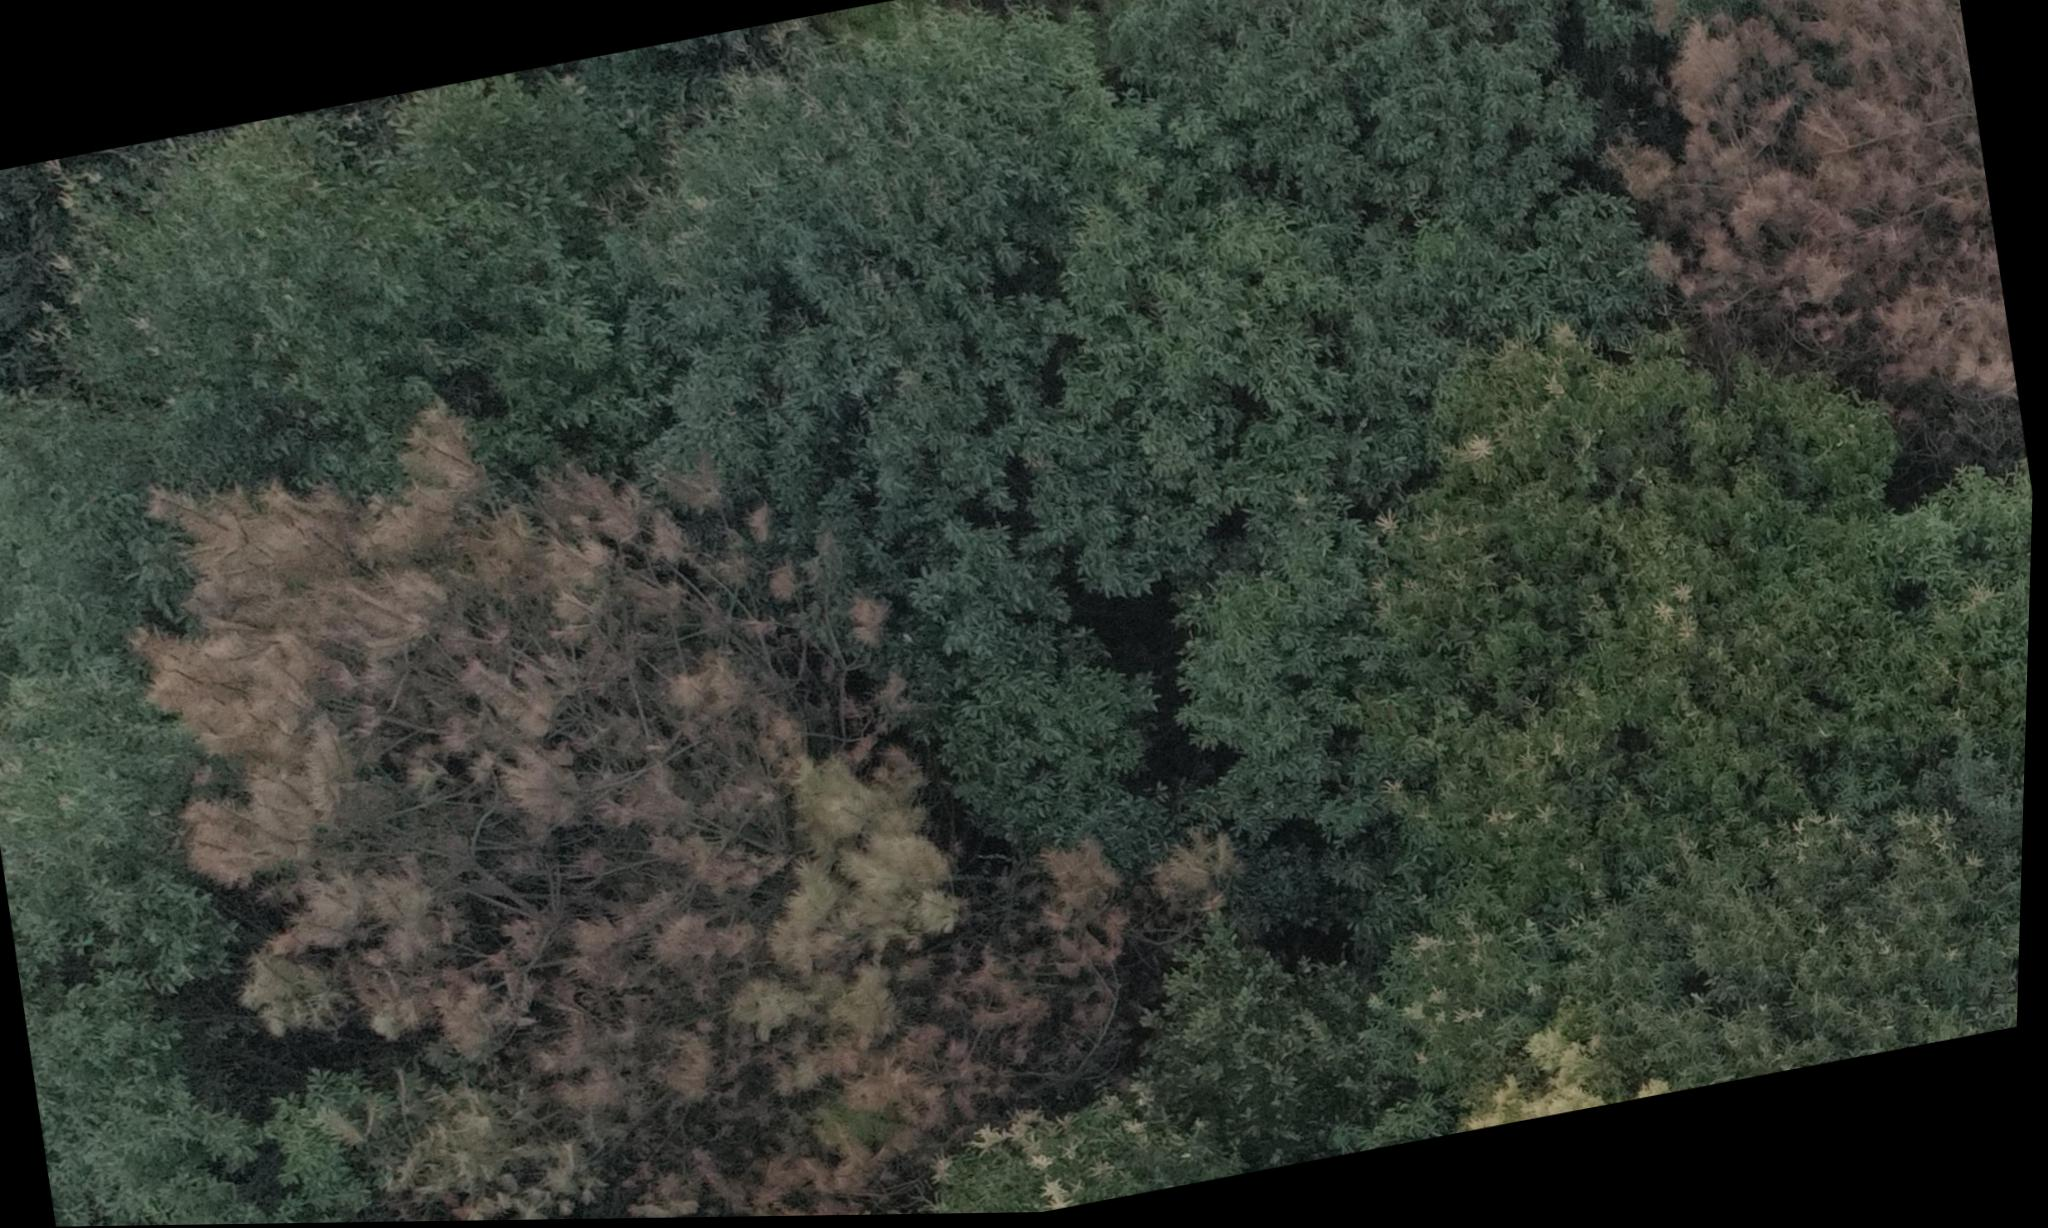heavy: (107, 300, 1257, 1227), (1580, 0, 2032, 482)
